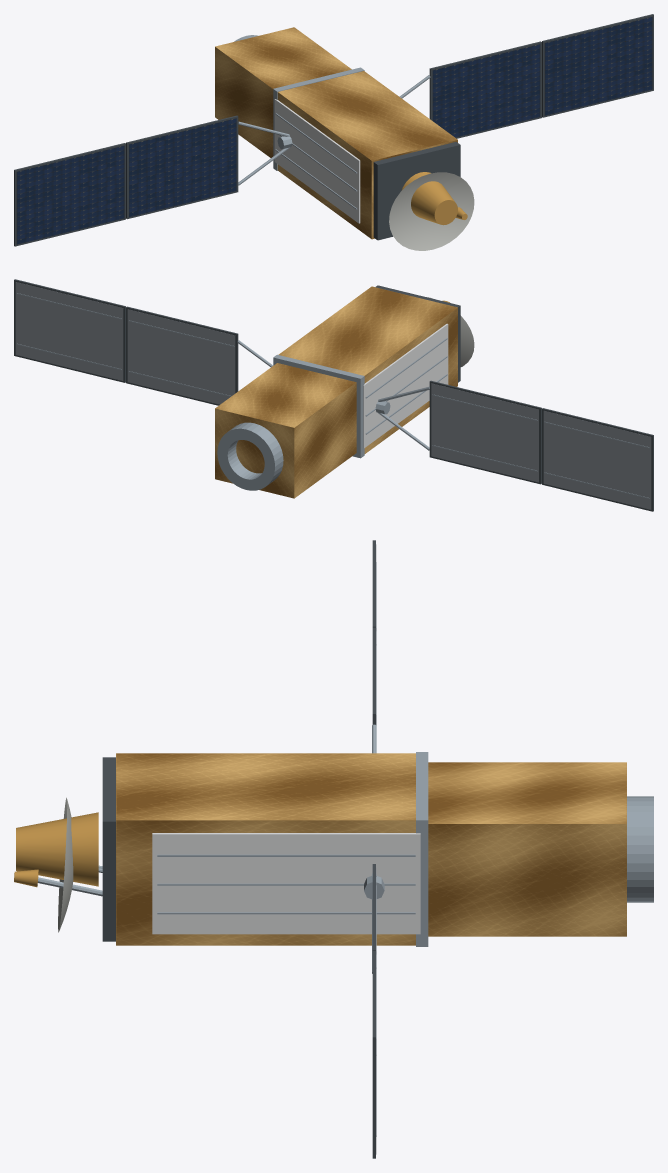
Rendered from ref-bs-10792.glb.
3 renders of one model, top to bottom at view 1: azimuth 30°, elevation 25°; view 2: azimuth 150°, elevation 25°; view 3: azimuth 270°, elevation 25°, orthographic. The views are drawn at different scales.
Parts seen in each view (by area): view 1: Solar cell panel (×4), Payload module, Service module, Radiator face, Solar panel frame (×4), Deck-mounted reflector, Earth-facing deck, Axial antenna horn, Module interface; view 2: Rear array substrate (×4), Service module, Payload module, Radiator face, Solar panel frame (×4), Launch adapter ring, Module interface, Deck-mounted reflector, Earth-facing deck; view 3: Service module, Payload module, Radiator face, Axial antenna horn, Launch adapter ring, Earth-facing deck, Module interface, Deck-mounted reflector.
Part boxes in pixels (left/top/right/bottom): Solar cell panel (×4): left=16, top=17, right=652, bottom=244; Payload module: left=277, top=71, right=457, bottom=239; Service module: left=215, top=27, right=351, bottom=157; Radiator face: left=274, top=99, right=360, bottom=223; Solar panel frame (×4): left=14, top=14, right=653, bottom=246; Deck-mounted reflector: left=389, top=172, right=474, bottom=250; Earth-facing deck: left=373, top=142, right=460, bottom=240; Axial antenna horn: left=402, top=172, right=457, bottom=225; Module interface: left=273, top=67, right=364, bottom=170; Rear array substrate (×4): left=15, top=282, right=651, bottom=509; Service module: left=215, top=363, right=356, bottom=498; Payload module: left=278, top=286, right=457, bottom=453; Radiator face: left=363, top=323, right=448, bottom=448; Solar panel frame (×4): left=14, top=279, right=653, bottom=511; Launch adapter ring: left=217, top=422, right=283, bottom=490; Module interface: left=273, top=354, right=364, bottom=458; Deck-mounted reflector: left=426, top=297, right=474, bottom=366; Earth-facing deck: left=375, top=285, right=460, bottom=382; Service module: left=428, top=762, right=626, bottom=936; Payload module: left=116, top=753, right=415, bottom=945; Radiator face: left=152, top=833, right=420, bottom=934; Axial antenna horn: left=16, top=812, right=98, bottom=886; Launch adapter ring: left=627, top=796, right=653, bottom=902; Earth-facing deck: left=102, top=757, right=115, bottom=941; Module interface: left=416, top=752, right=428, bottom=946; Deck-mounted reflector: left=58, top=797, right=73, bottom=932.
Bounding box in the file's own units: 8.88 × 1.15 × 4.84.
8 materials, 2 textured.
